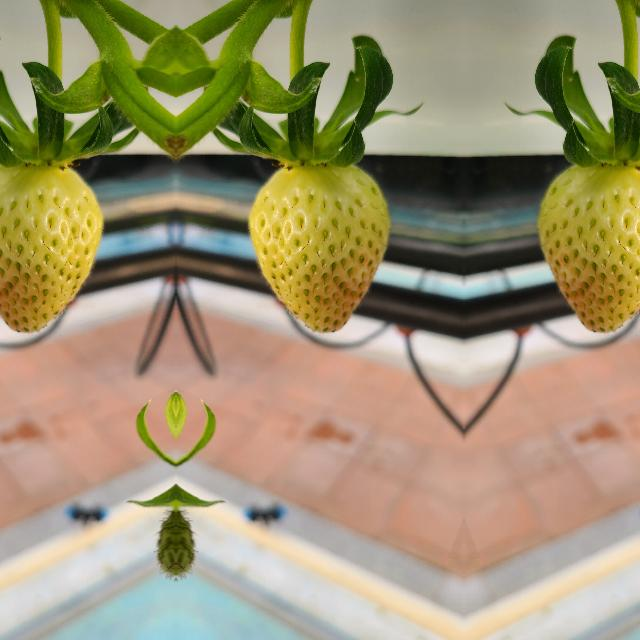Health_25: (247, 163, 391, 334), (535, 163, 640, 334), (0, 163, 103, 334)
